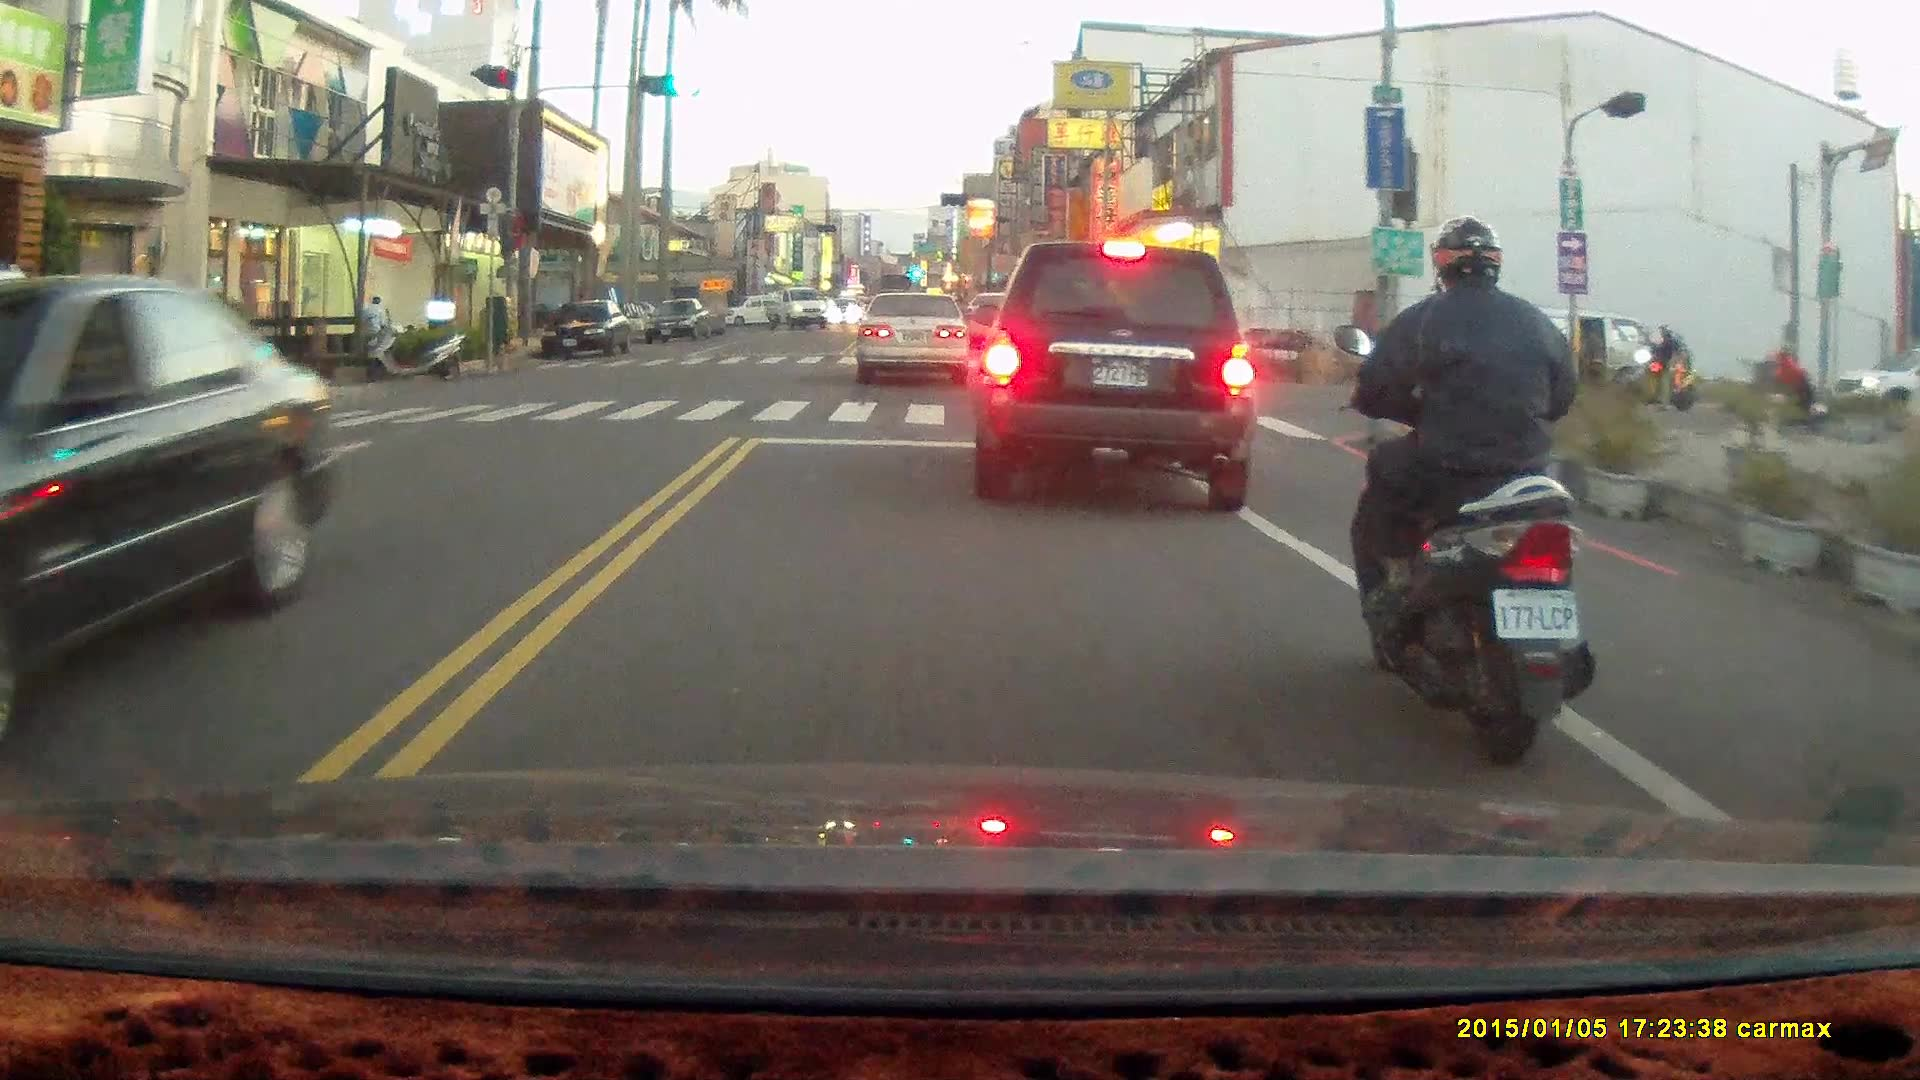pedestrian: (360, 292, 390, 360), (1581, 320, 1604, 390)
rider: (1331, 212, 1597, 765), (1746, 339, 1828, 433), (1623, 318, 1694, 409)
vehicle: (1, 273, 344, 745), (975, 238, 1256, 513), (1461, 305, 1672, 408), (859, 292, 972, 389), (540, 299, 637, 356), (643, 299, 711, 348)
